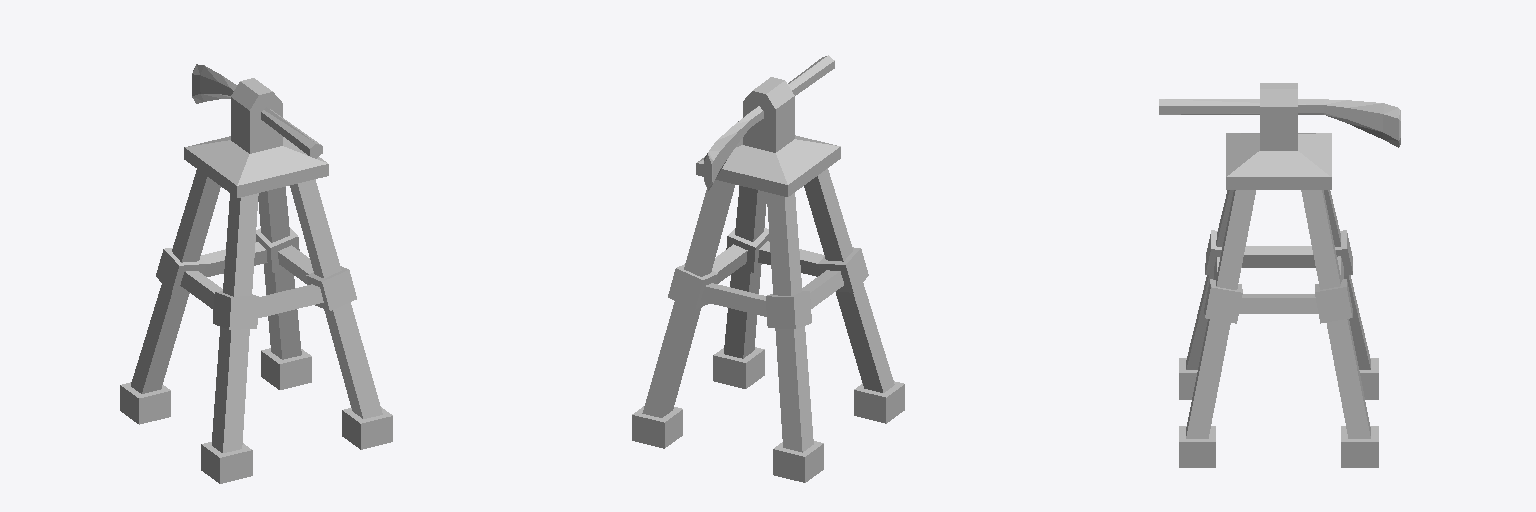
Rendered from Windmill.obj.
3 views of the same model, side by side, from view 1: azimuth 30°, elevation 25°; view 2: azimuth 150°, elevation 25°; view 3: azimuth 270°, elevation 25° (orthographic).
Parts seen in each view (by area): view 1: Plane; view 2: Plane; view 3: Plane.
Boxes of the visible parts, <box> form: Plane: <box>120,64,392,483</box>; Plane: <box>632,55,904,482</box>; Plane: <box>1159,83,1400,467</box>.
Size of the model in its own units: 1.46 by 2.74 by 1.76.